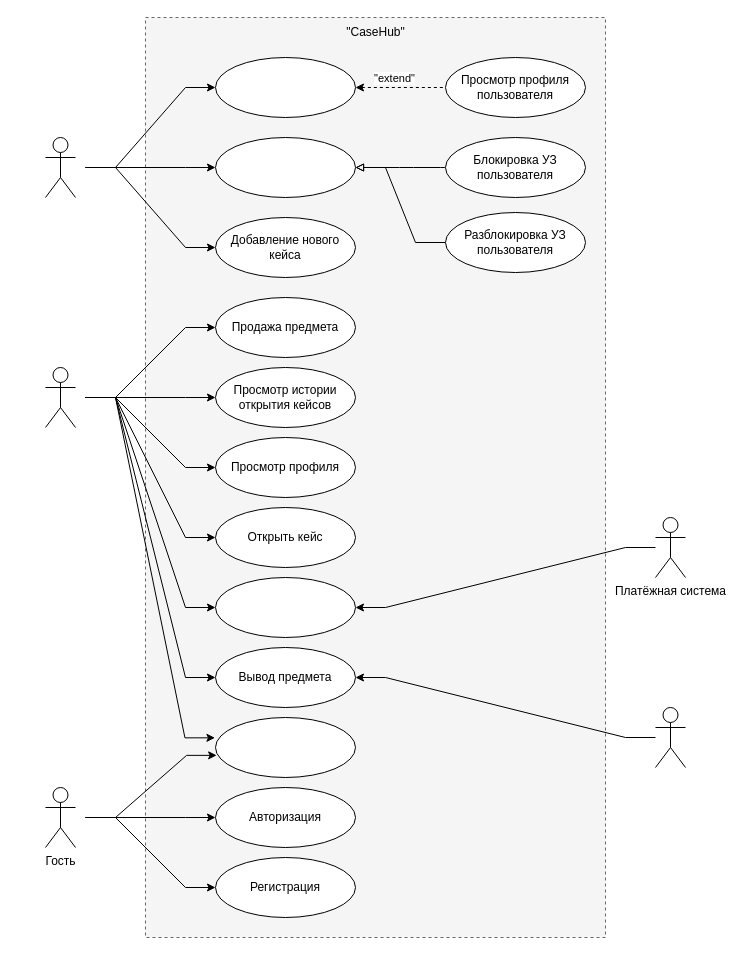
This 743x955 diagram has some shape labels left out. The shapes that lost their labels are listed below. From the top down, each one's box as (x1, y1, x2, y2) in pixels, then its label:
(214, 56, 356, 118): Просмотр списка пользователей
(44, 136, 76, 198): Администратор
(214, 136, 356, 198): Управление УЗ пользователей
(44, 366, 76, 428): Пользователь
(214, 576, 356, 638): Пополнение баланса
(214, 716, 356, 778): Просмотр кейсов
(654, 706, 686, 768): Торговая площадка Steam
